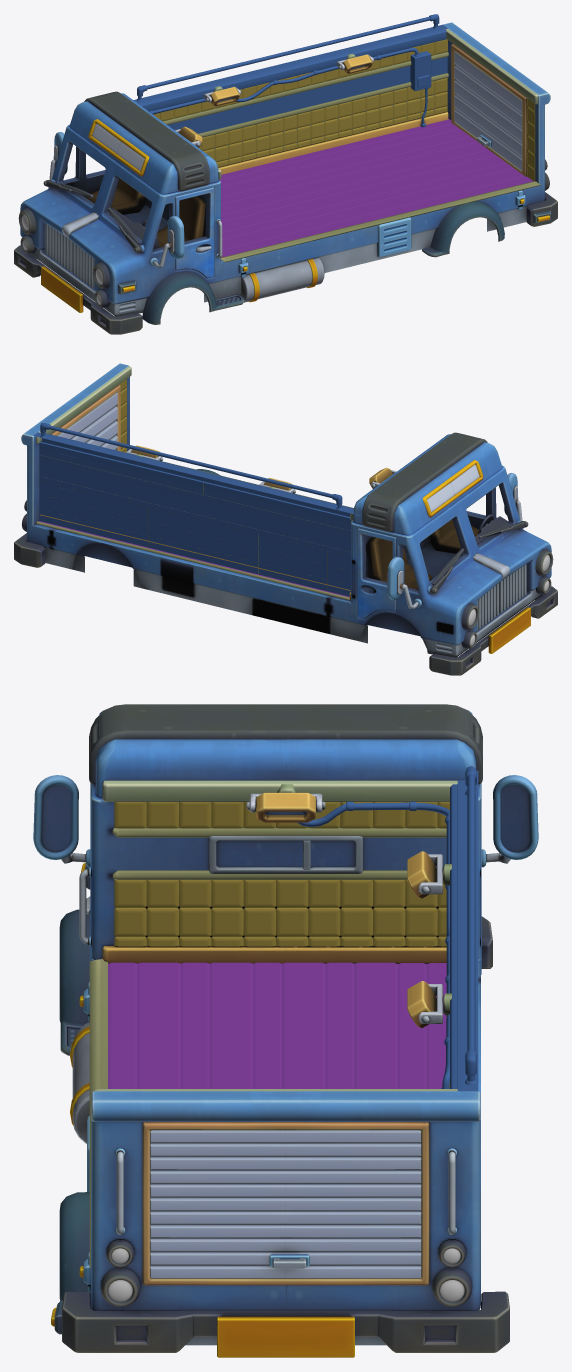
The model's file is m_lorry_van_back_01.fbx.
3 views of the same model, one above another, from view 1: azimuth 30°, elevation 25°; view 2: azimuth 150°, elevation 25°; view 3: azimuth 270°, elevation 25° (orthographic). The views are drawn at different scales.
Parts seen in each view (by area): view 1: m_lorry_van_back_01; view 2: m_lorry_van_back_01; view 3: m_lorry_van_back_01.
Part boxes in pixels (x1=…): m_lorry_van_back_01: x1=14, y1=14, x2=557, y2=334; m_lorry_van_back_01: x1=14, y1=363, x2=557, y2=675; m_lorry_van_back_01: x1=33, y1=704, x2=538, y2=1357.
Size of the model in its own units: 15.48 by 5.18 by 7.59.
Materials: 4 (1 with a texture image).
